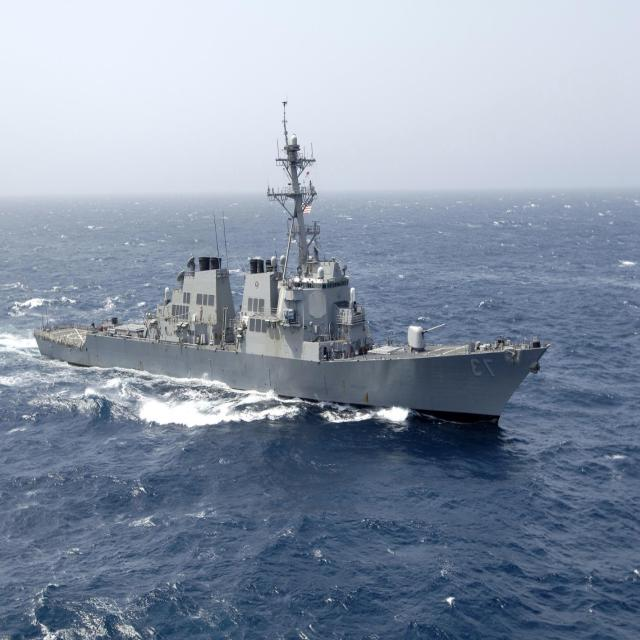navalvessels: (30, 90, 547, 416)
